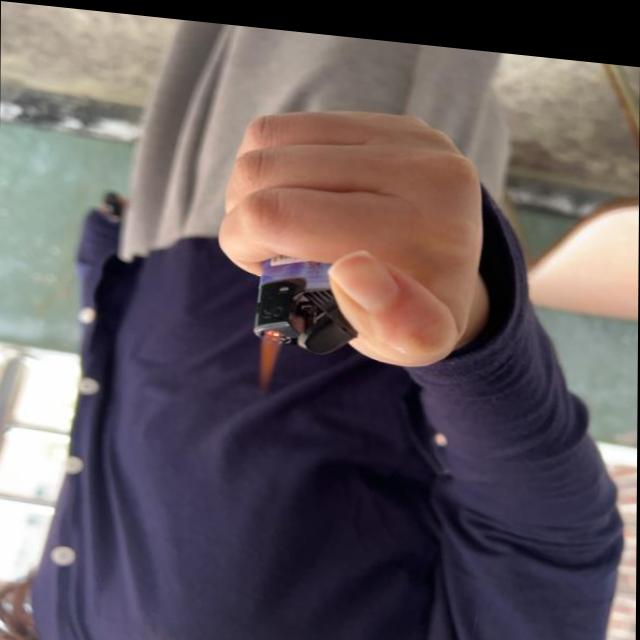Fire: (249, 322, 285, 385)
